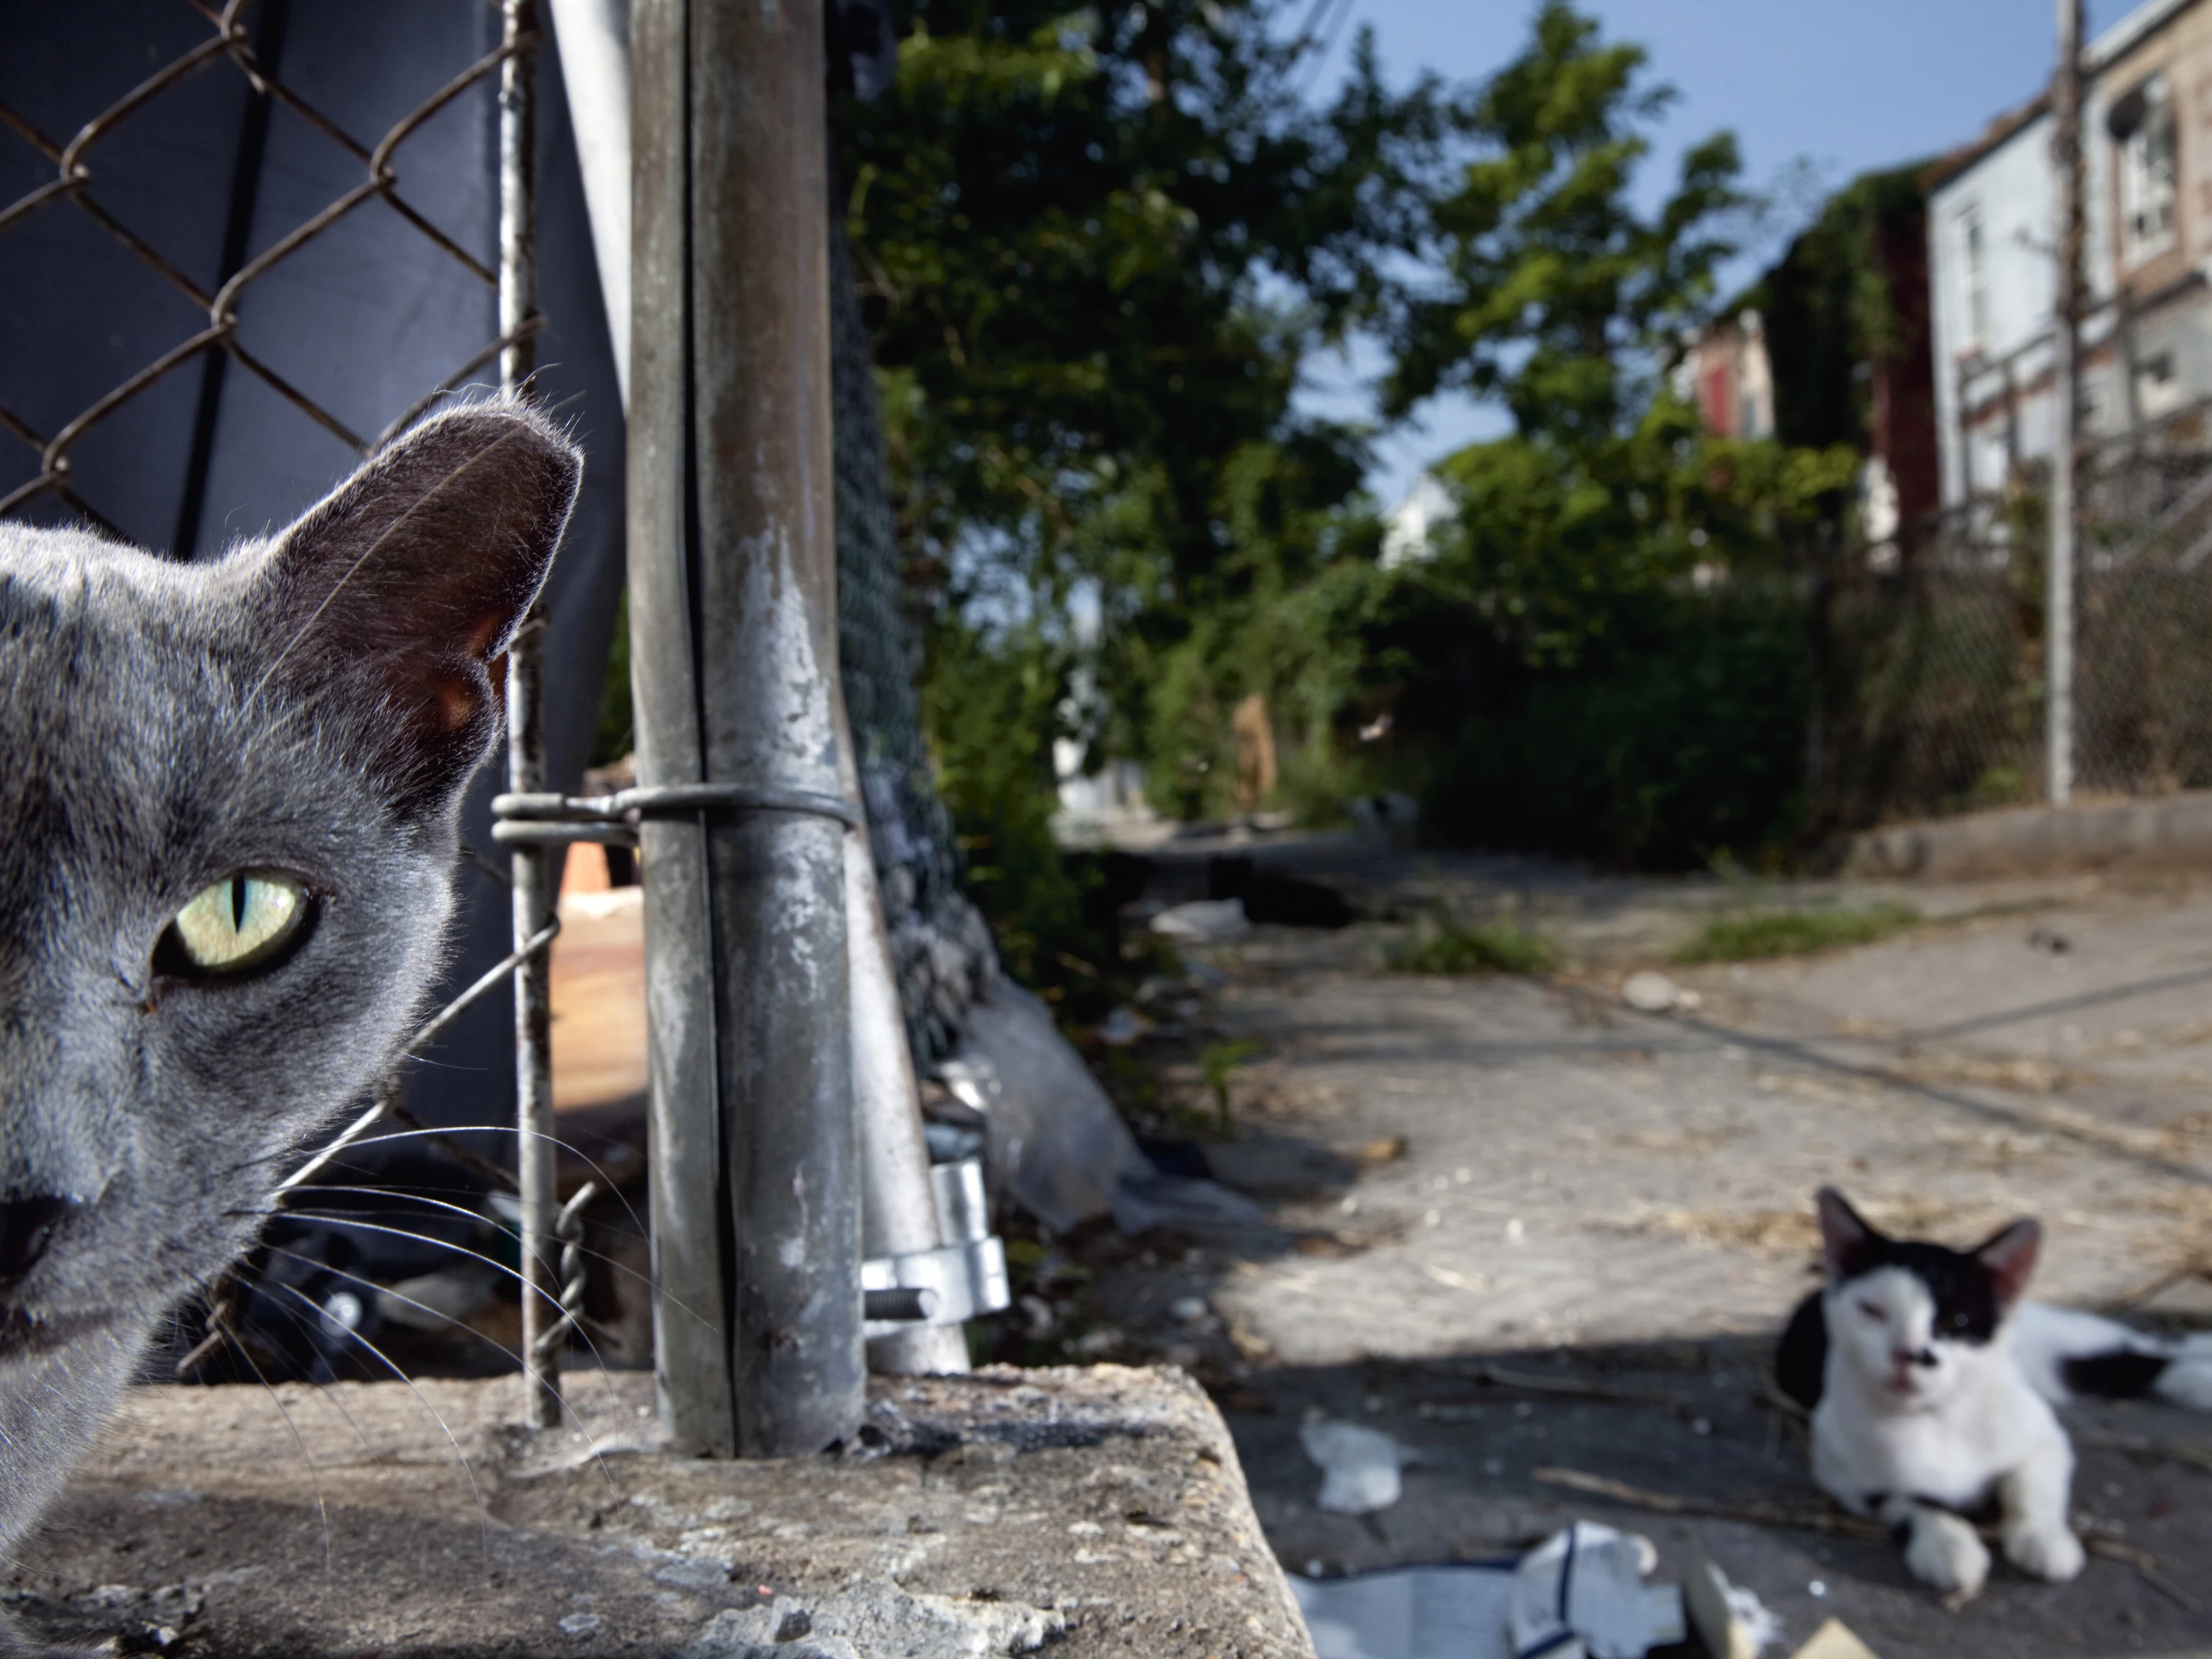Cat: (0, 345, 611, 1572), (1750, 1161, 2116, 1621)
